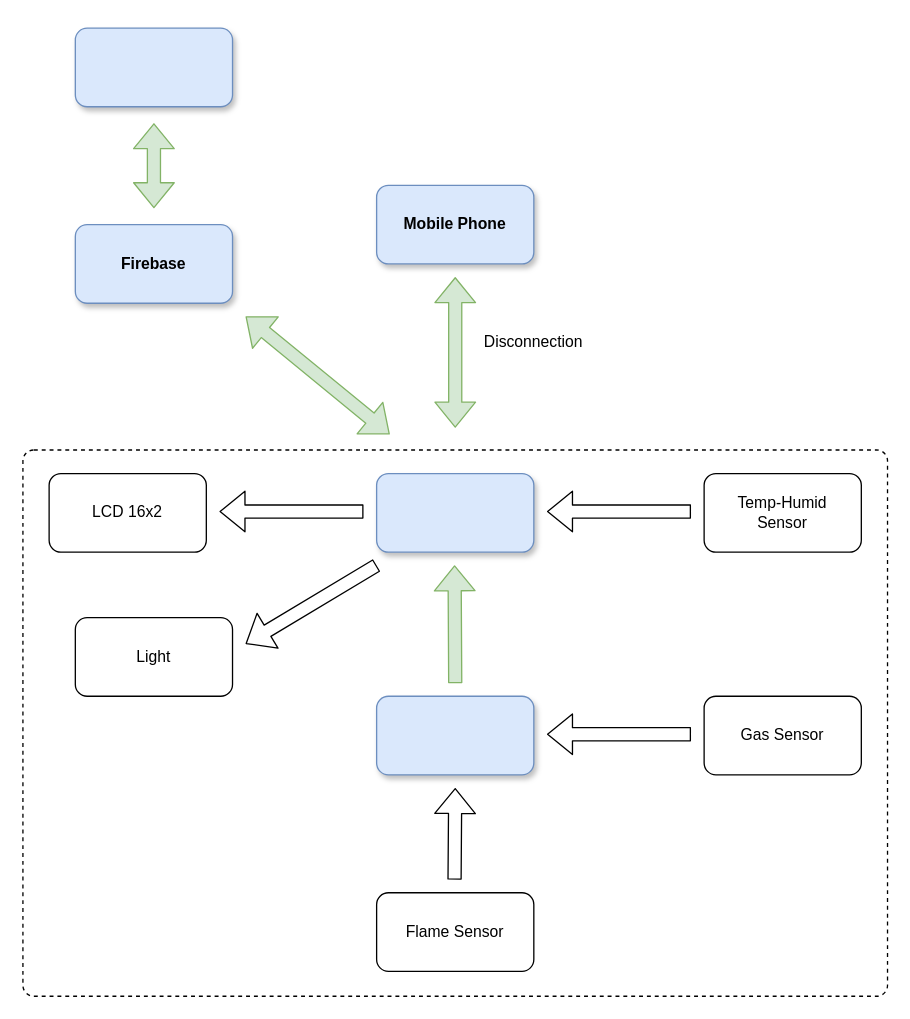
This 910x1019 diagram has some shape labels left out. Each missing label, with the centre of its shape:
Arduino UNO: the point at 456,737
NodeMCU: the point at 456,514
Website: the point at 154,69
